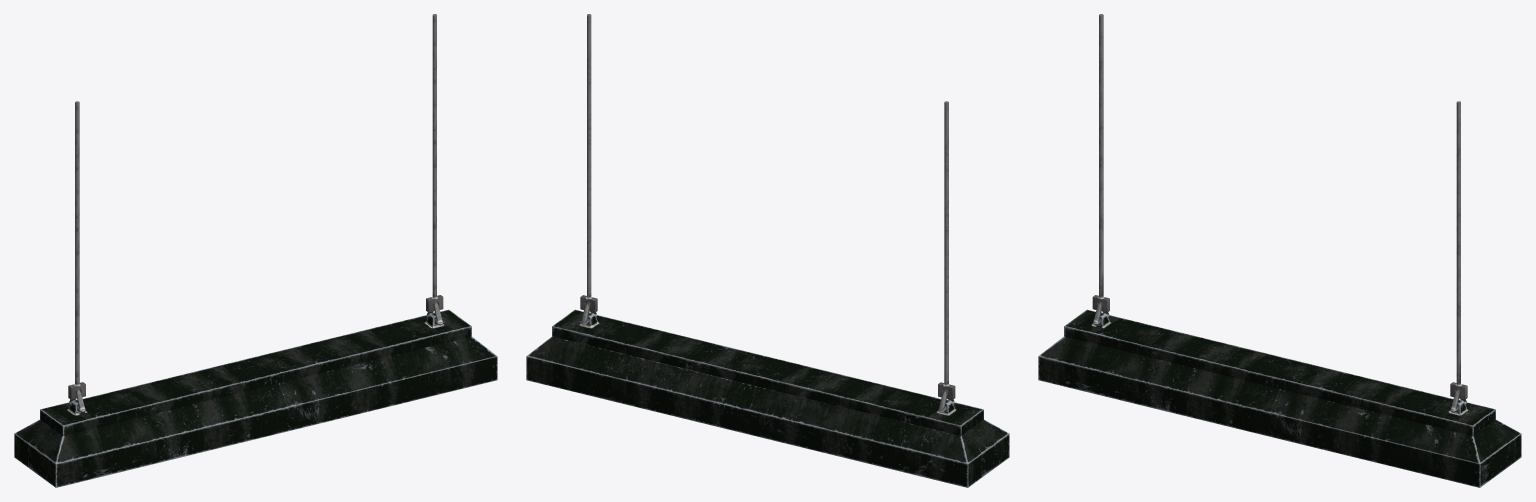
Rendered from low_poly_hanging_light.glb.
The picture shows the model from 3 angles, left to right: view 1: azimuth 30°, elevation 25°; view 2: azimuth 150°, elevation 25°; view 3: azimuth 330°, elevation 25°; orthographic projection.
Parts seen in each view (by area): view 1: Cube, Cylinder.002, Cylinder.001; view 2: Cube, Cylinder.002, Cylinder.001; view 3: Cube, Cylinder.001, Cylinder.002.
Part boxes in pixels (left/top/right/bottom): Cube: left=14, top=309, right=497, bottom=487; Cylinder.002: left=432, top=14, right=436, bottom=298; Cylinder.001: left=75, top=101, right=79, bottom=385; Cube: left=526, top=309, right=1009, bottom=487; Cylinder.002: left=587, top=14, right=591, bottom=298; Cylinder.001: left=944, top=101, right=948, bottom=385; Cube: left=1038, top=309, right=1521, bottom=487; Cylinder.001: left=1099, top=14, right=1103, bottom=298; Cylinder.002: left=1456, top=101, right=1460, bottom=385.
Bounding box in the file's own units: 12.23 × 9.54 × 2.
Materials: 1 (1 with a texture image).
